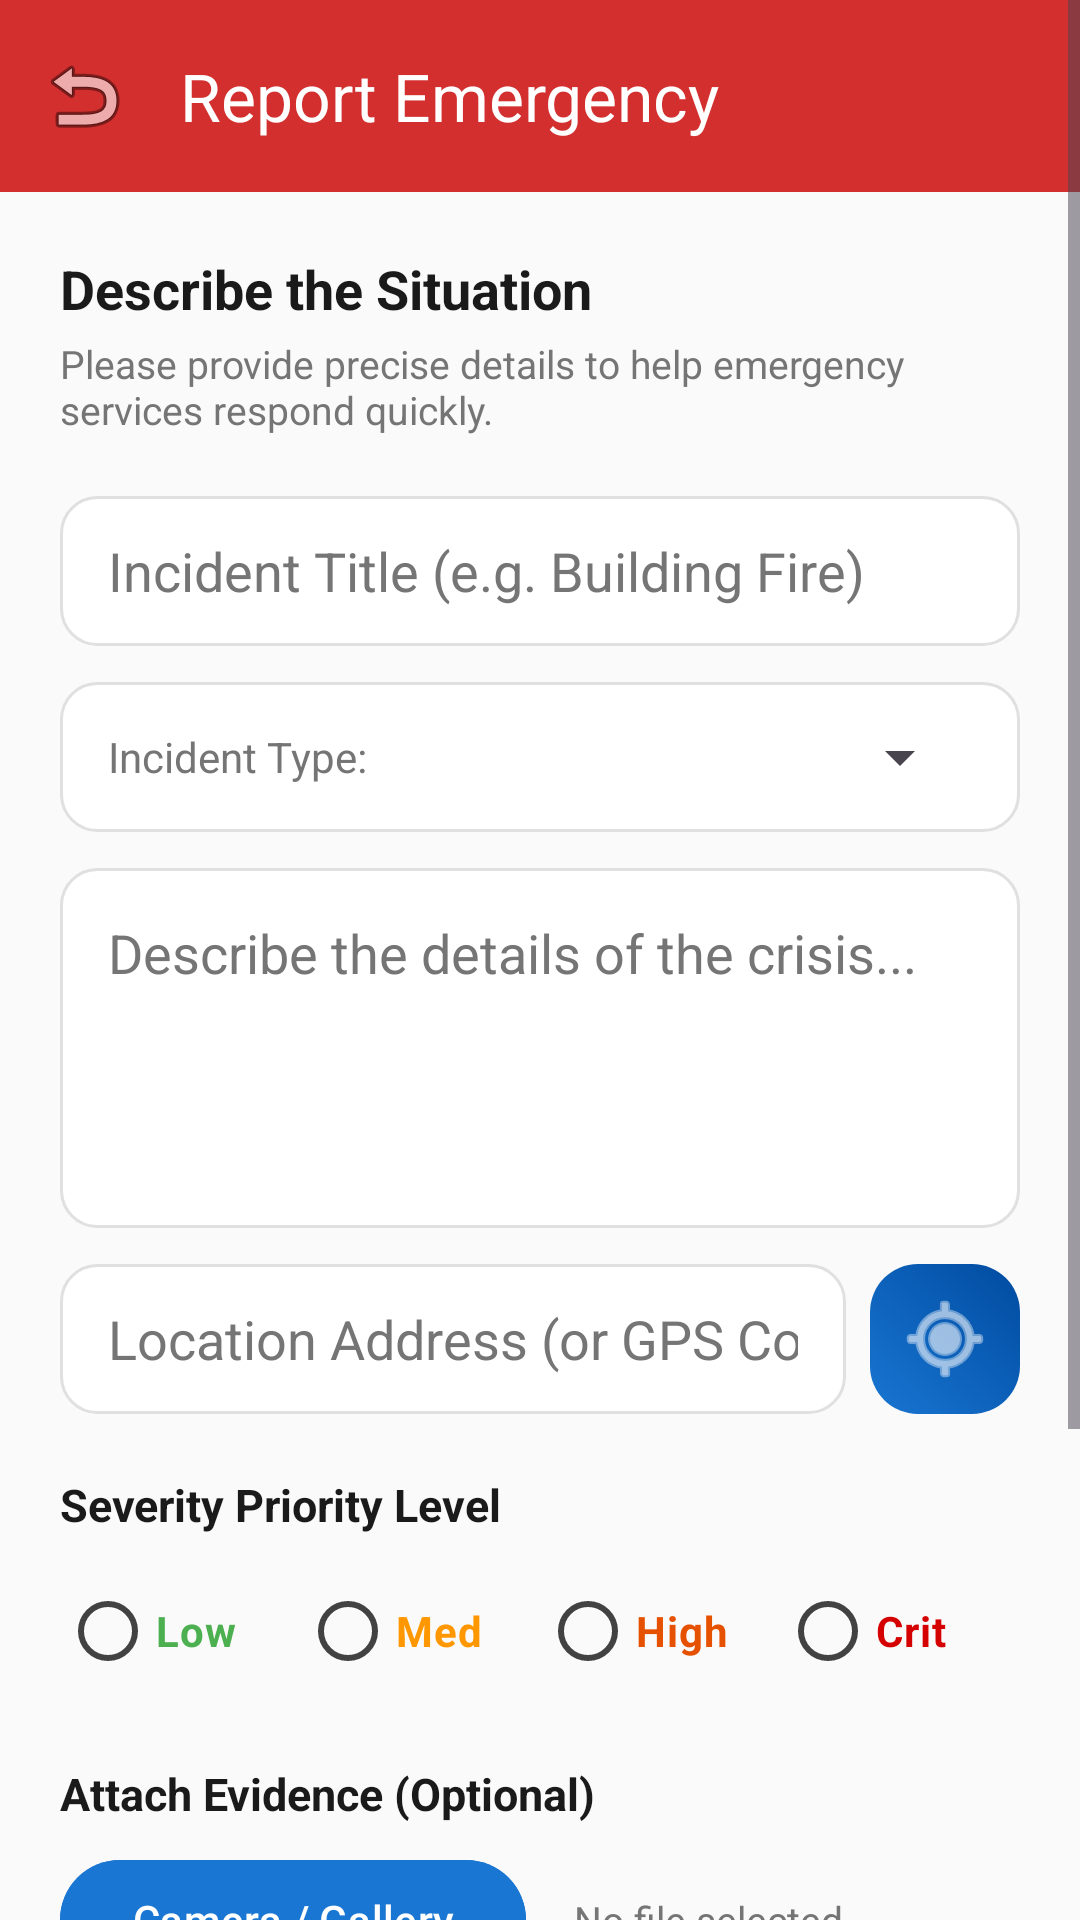

Icon click points for this 1080×1920 phone screenshot, format [x,y]:
Get GPS Location: [945,1339]
